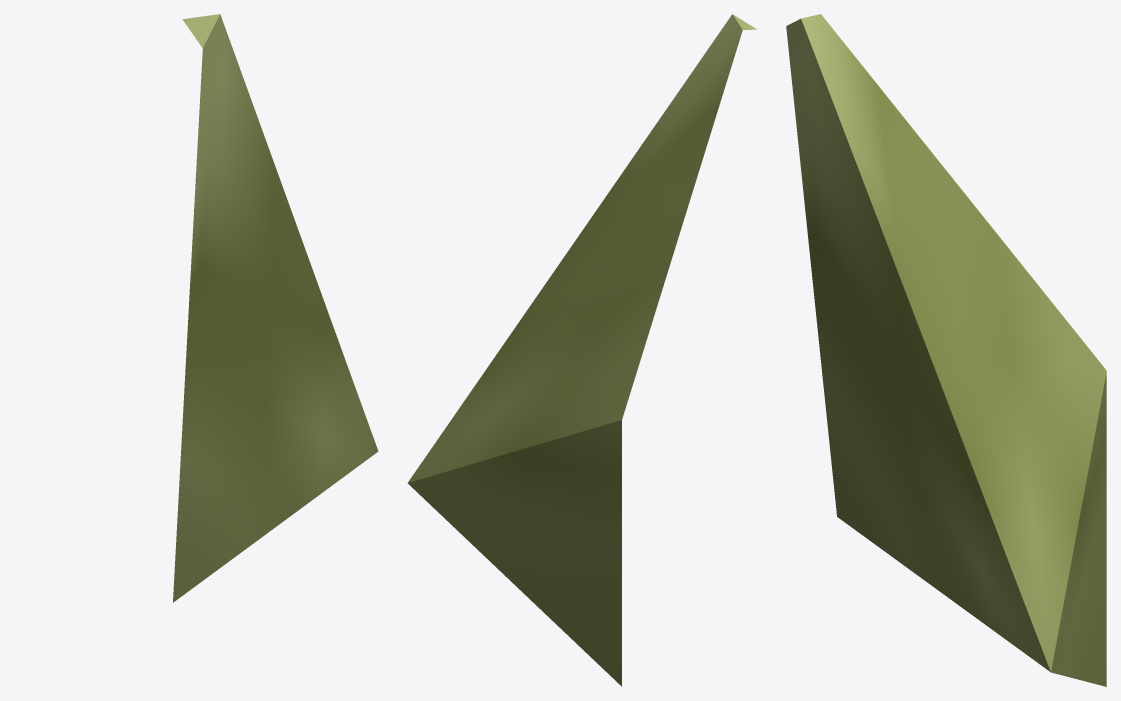
3 renders of one model, left to right at view 1: azimuth 30°, elevation 25°; view 2: azimuth 150°, elevation 25°; view 3: azimuth 270°, elevation 25°, orthographic. The views are drawn at different scales.
Size of the model in its own units: 0.0351 by 0.0809 by 0.0346.
Materials: 1 (1 with a texture image).
